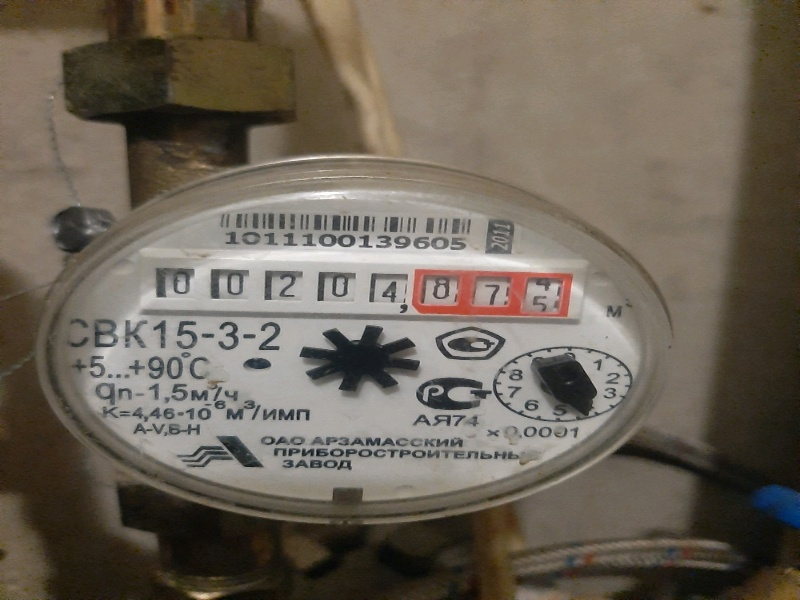meter: (148, 256, 574, 322)
